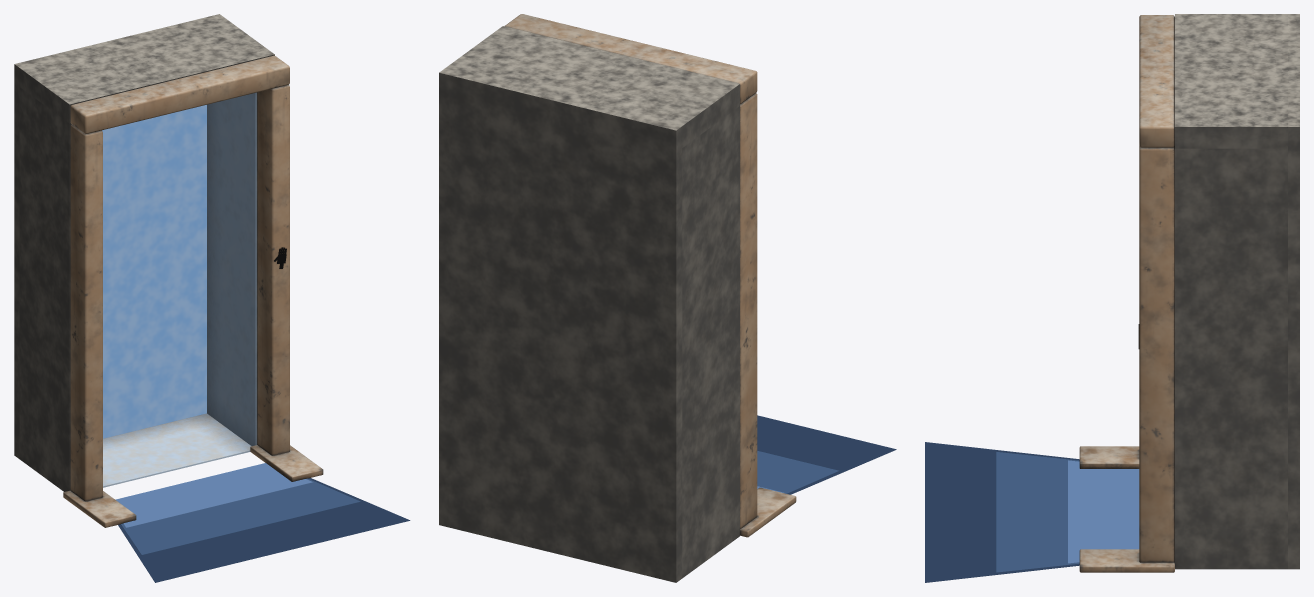
The model's file is doorway_blue.fbx.
The picture shows the model from 3 angles, left to right: view 1: azimuth 30°, elevation 25°; view 2: azimuth 150°, elevation 25°; view 3: azimuth 270°, elevation 25°; orthographic projection. The views are drawn at different scales.
Visible parts, largest first — view 1: Body, Glow; view 2: Body; view 3: Body.
Boxes of the visible parts, x1,y1,x2,y2 form: Body: (14,14,410,582); Glow: (102,105,206,438); Body: (439,14,896,582); Body: (925,14,1299,582).
Size of the model in its own units: 5.6 by 8.2 by 6.3.
Materials: 1 (1 with a texture image).
